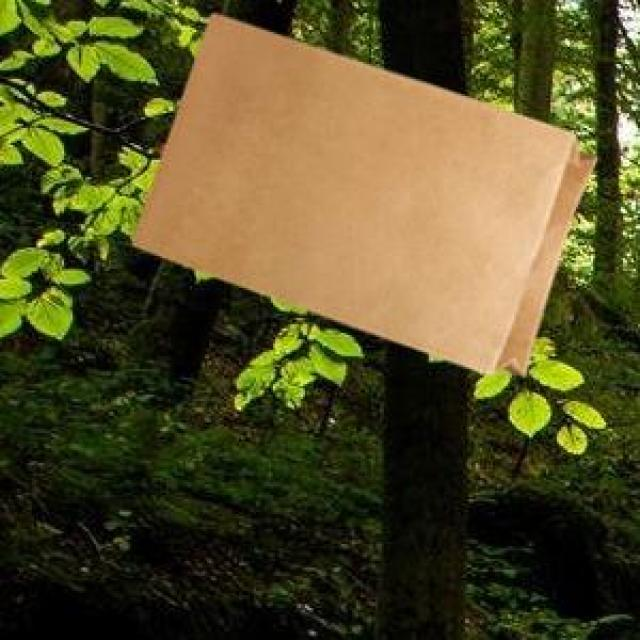Paper -Biodegradable-: (133, 11, 599, 372)
